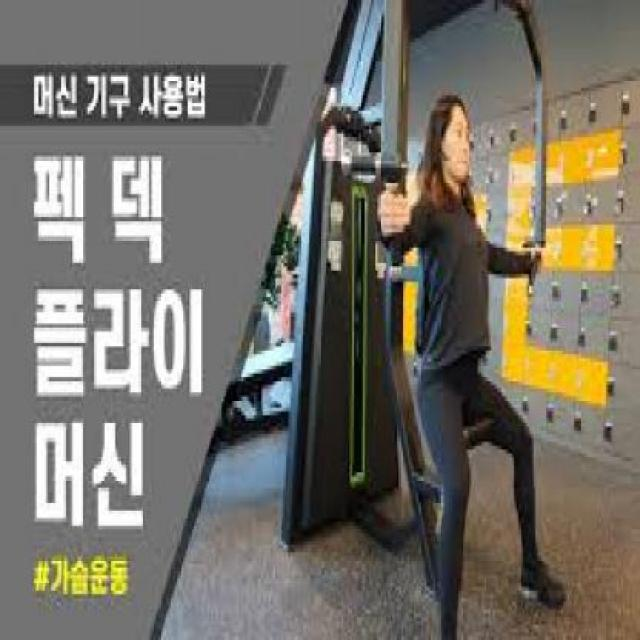chest fly machine: (302, 4, 575, 640)
